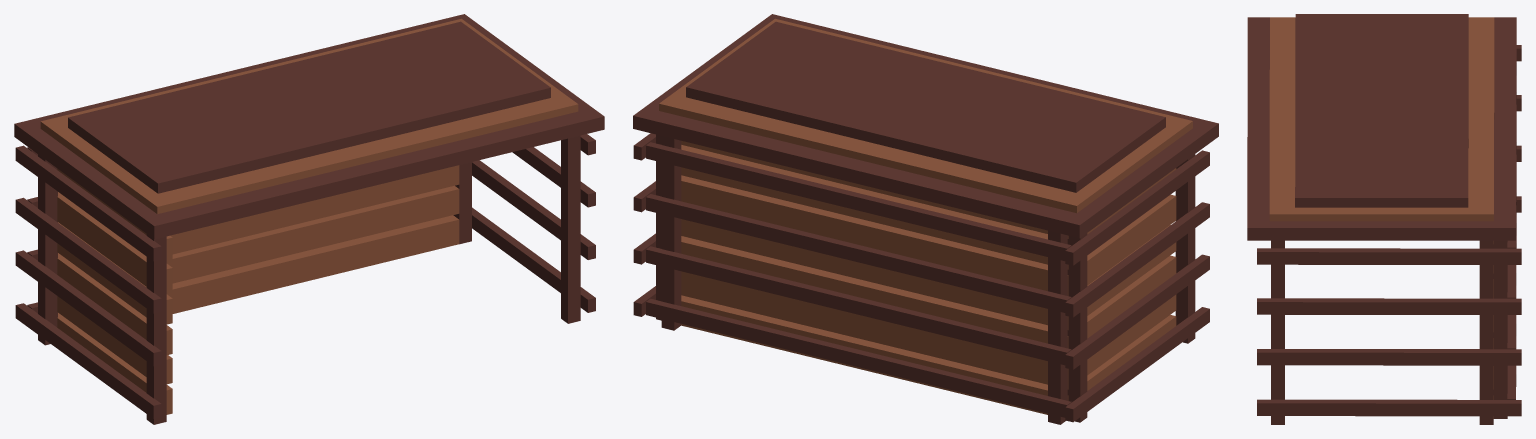
The model's file is sawmill_tent.fbx.
The picture shows the model from 3 angles, left to right: view 1: azimuth 30°, elevation 25°; view 2: azimuth 150°, elevation 25°; view 3: azimuth 270°, elevation 25°; orthographic projection. The views are drawn at different scales.
Visible parts, largest first — view 1: sawmill; view 2: sawmill; view 3: sawmill.
Boxes of the visible parts, bbox=[...] form: sawmill: bbox=[14, 14, 604, 424]; sawmill: bbox=[633, 14, 1218, 424]; sawmill: bbox=[1247, 14, 1521, 424].
Size of the model in its own units: 359 by 174 by 197.
